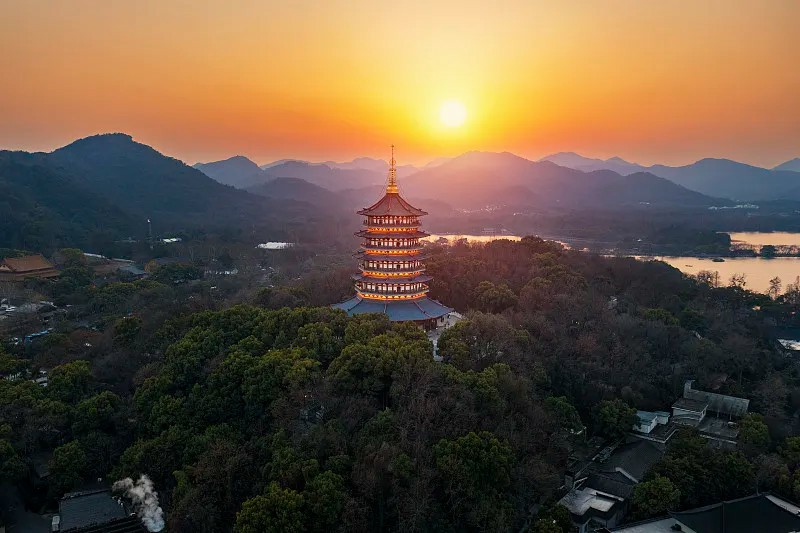Leifeng: (328, 141, 454, 340)
